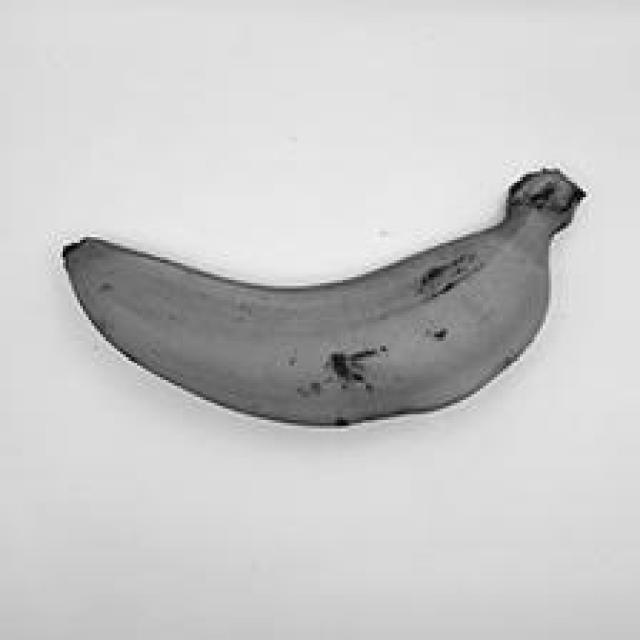Raw: (39, 146, 610, 456)
